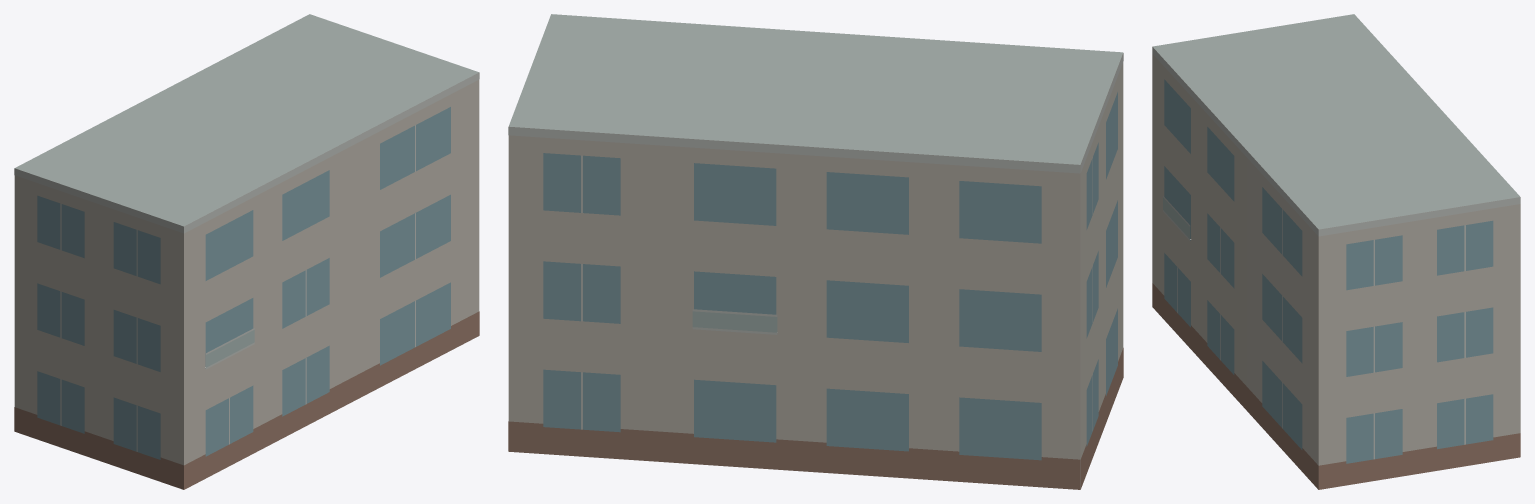
File: survey-upis-32960860.glb
The picture shows the model from 3 angles, left to right: view 1: azimuth 30°, elevation 25°; view 2: azimuth 150°, elevation 25°; view 3: azimuth 270°, elevation 25°; orthographic projection. The views are drawn at different scales.
Parts seen in each view (by area): view 1: survey-upis-32960860.tmp; view 2: survey-upis-32960860.tmp; view 3: survey-upis-32960860.tmp.
Part boxes in pixels (bbox=[...]): survey-upis-32960860.tmp: bbox=[14, 14, 479, 489]; survey-upis-32960860.tmp: bbox=[508, 14, 1123, 489]; survey-upis-32960860.tmp: bbox=[1152, 14, 1520, 489].
Size of the model in its own units: 16.26 by 9.15 by 11.75.
